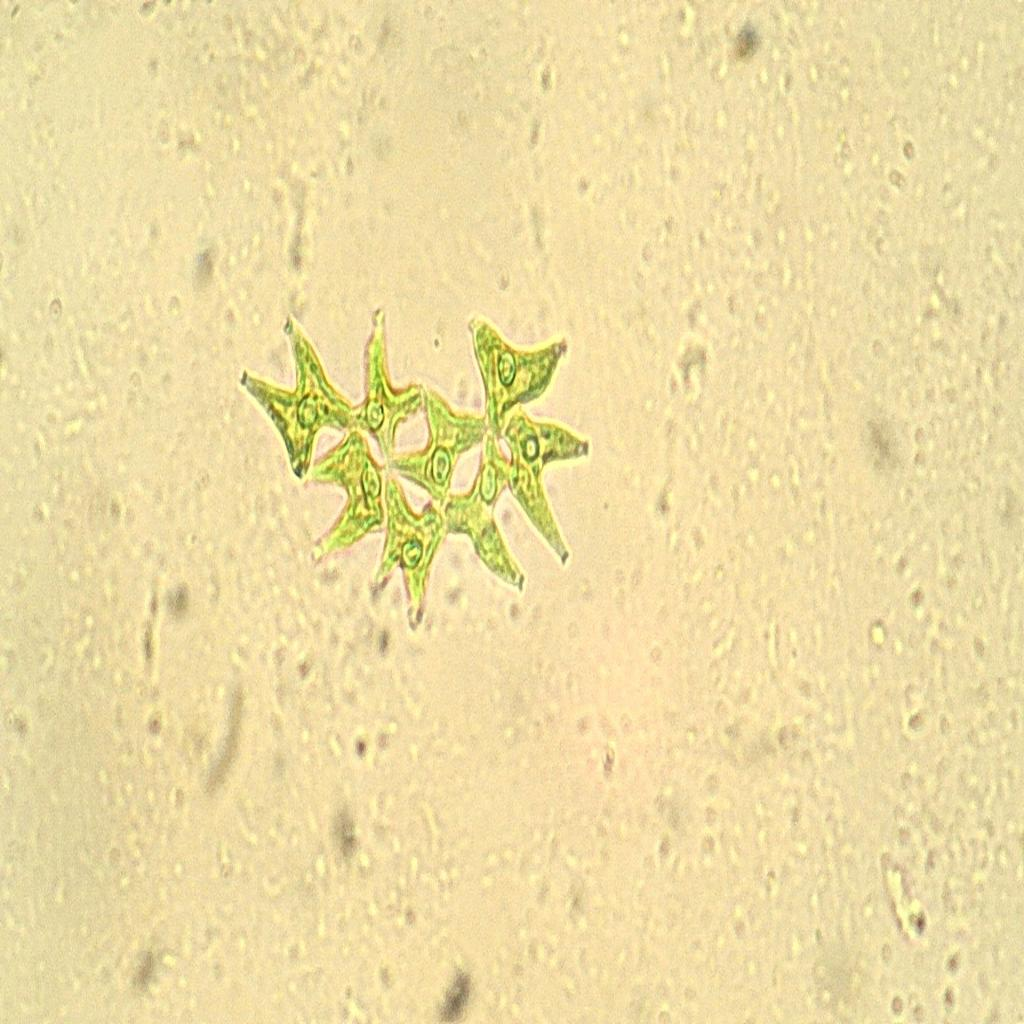Pediastrum_1TH: (221, 269, 619, 640)
